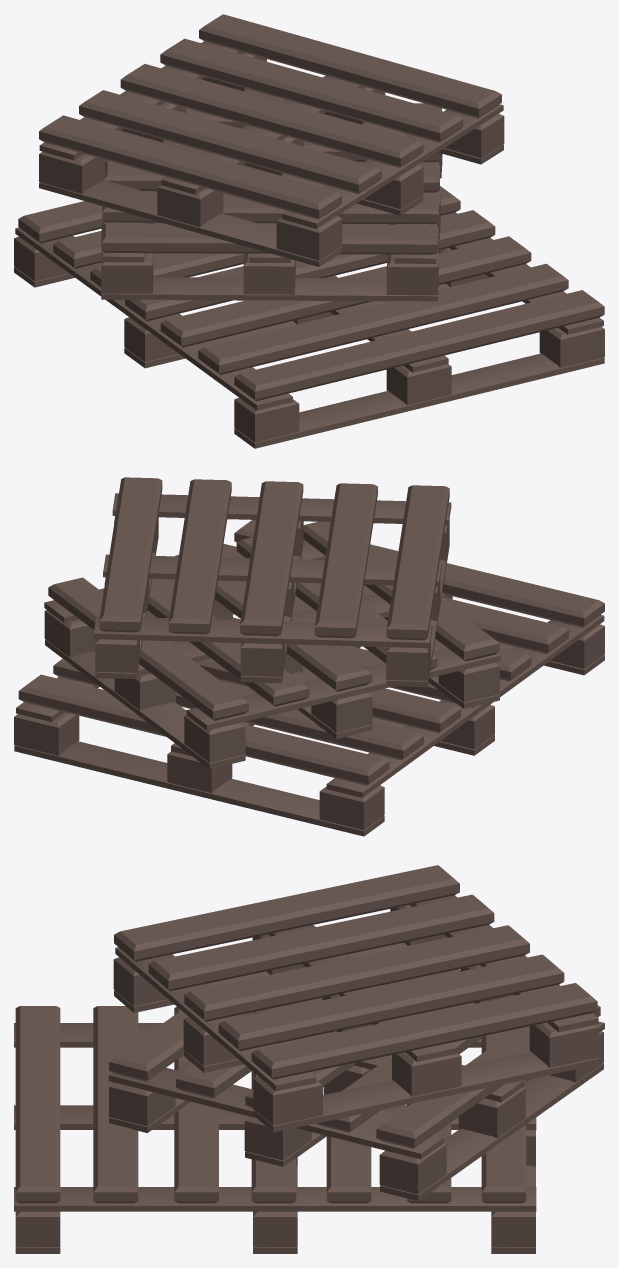
The model's file is props_50.glb.
The picture shows the model from 3 angles, top to bottom: view 1: azimuth 30°, elevation 25°; view 2: azimuth 150°, elevation 25°; view 3: azimuth 270°, elevation 25°; orthographic projection. The views are drawn at different scales.
Visible parts, largest first — view 1: props_50; view 2: props_50; view 3: props_50.
Boxes of the visible parts, x1,y1,x2,y2 form: props_50: (14,14,604,448); props_50: (14,477,604,836); props_50: (14,865,604,1253).
Size of the model in its own units: 2.73 by 1.21 by 3.25.
1 material, 1 textured.
